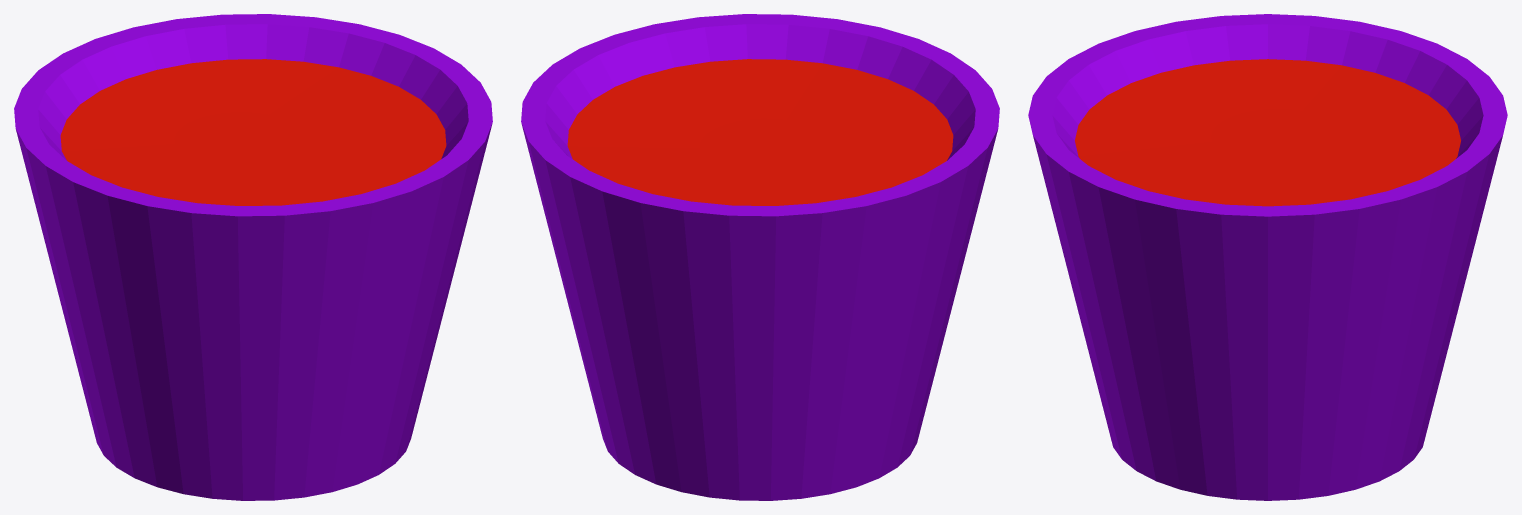
File: PlantPot.fbx
3 renders of one model, left to right at view 1: azimuth 30°, elevation 25°; view 2: azimuth 150°, elevation 25°; view 3: azimuth 270°, elevation 25°, orthographic.
Visible parts, largest first — view 1: Cylinder; view 2: Cylinder; view 3: Cylinder.
Boxes of the visible parts, <box> form: Cylinder: <box>14,14,492,500</box>; Cylinder: <box>521,14,999,500</box>; Cylinder: <box>1028,14,1507,500</box>.
Bounding box in the file's own units: 158 × 116 × 158.
